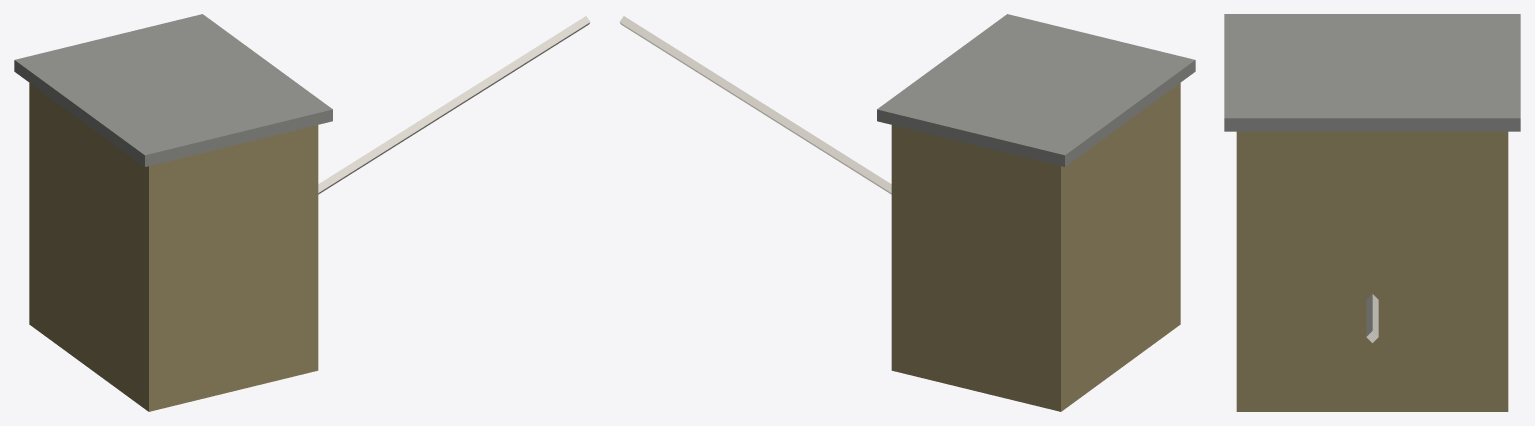
Rendered from checkpoint_booth_lod1.glb.
3 views of the same model, side by side, from view 1: azimuth 30°, elevation 25°; view 2: azimuth 150°, elevation 25°; view 3: azimuth 270°, elevation 25° (orthographic). The views are drawn at different scales.
Visible parts, largest first — view 1: checkpoint_booth_lod1; view 2: checkpoint_booth_lod1; view 3: checkpoint_booth_lod1.
Boxes of the visible parts, <box> form: checkpoint_booth_lod1: <box>14,14,590,411</box>; checkpoint_booth_lod1: <box>619,14,1195,411</box>; checkpoint_booth_lod1: <box>1224,14,1520,411</box>.
Size of what is drawn, in the model's own units: 5.42 by 2.67 by 2.4.
Materials: 3 (3 with a texture image).
